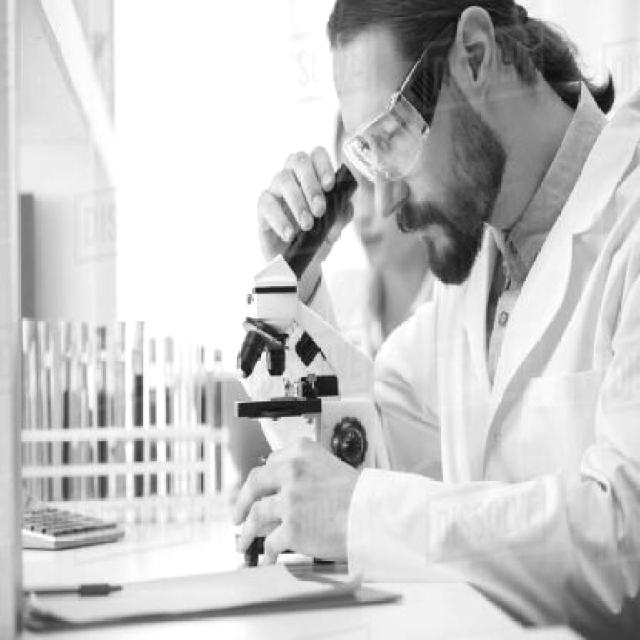face_nomask: (333, 106, 459, 254)
glasses: (336, 30, 453, 182)
hand_noglove: (222, 441, 363, 567), (247, 144, 355, 258)
person: (231, 0, 640, 640)
